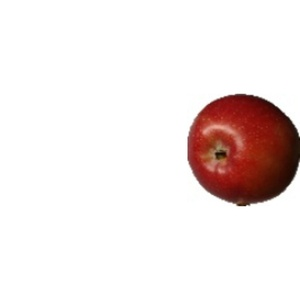maçã braeburn: (182, 92, 299, 206)
